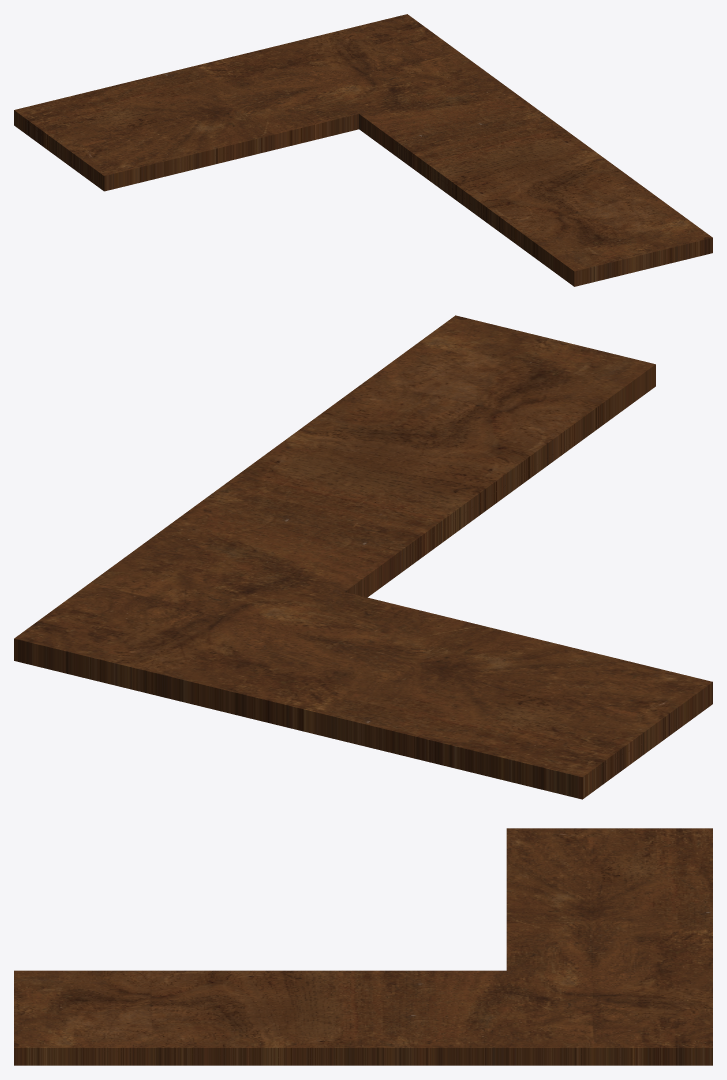
Rendered from laptop.glb.
3 views of the same model, one above another, from view 1: azimuth 30°, elevation 25°; view 2: azimuth 150°, elevation 25°; view 3: azimuth 270°, elevation 25° (orthographic). The views are drawn at different scales.
Visible parts, largest first — view 1: Cube.011; view 2: Cube.011; view 3: Cube.011.
Part boxes in pixels (x1,y1,x2,y2): Cube.011: (14, 14, 712, 286); Cube.011: (14, 315, 712, 799); Cube.011: (14, 828, 712, 1065).
Size of the model in its own units: 2.52 by 0.0941 by 3.39.
Materials: 1 (1 with a texture image).
